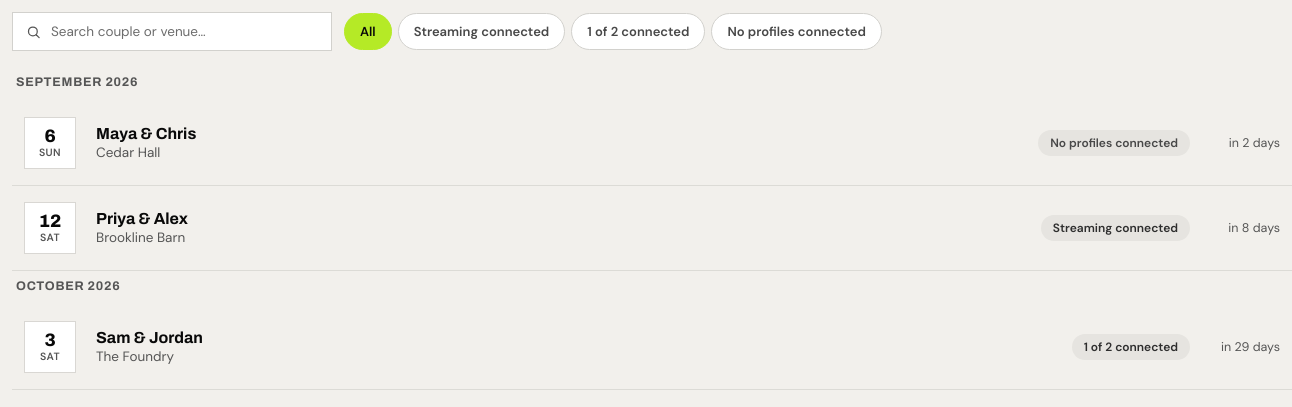
Test: UpcomingEventsList › filters by the search box
Step 1. Type "foundry" into the field named "Search upcoming events" → (172, 32), box [12, 12, 332, 51]
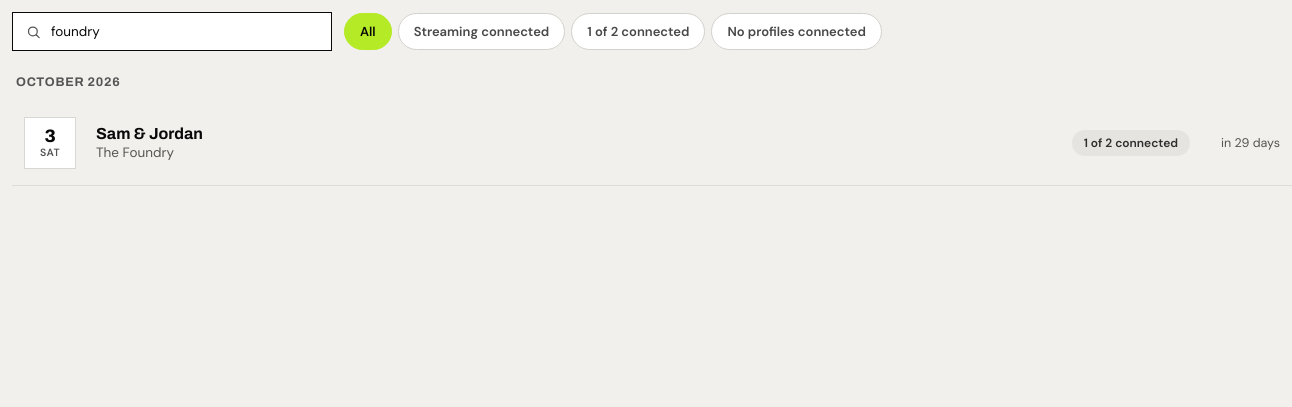
Check: the text "Sam & Jordan" is shown, box [96, 125, 203, 142]
Check: the link "Maya & Chris" is gone
